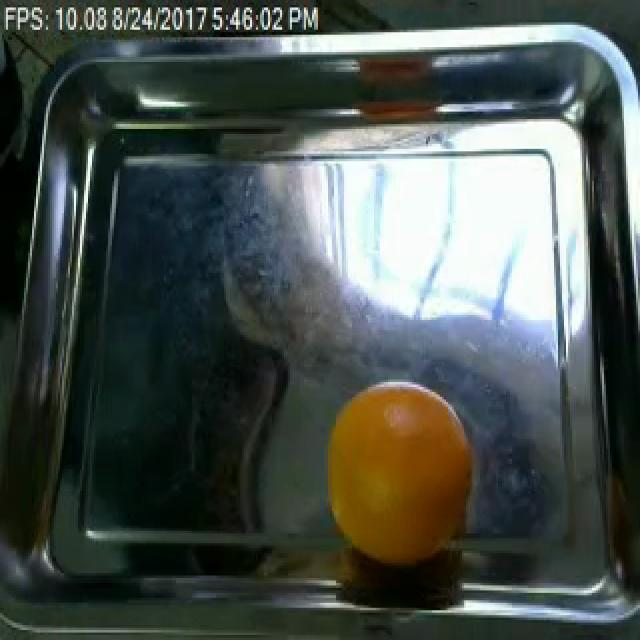Fruit: (320, 374, 478, 576)
